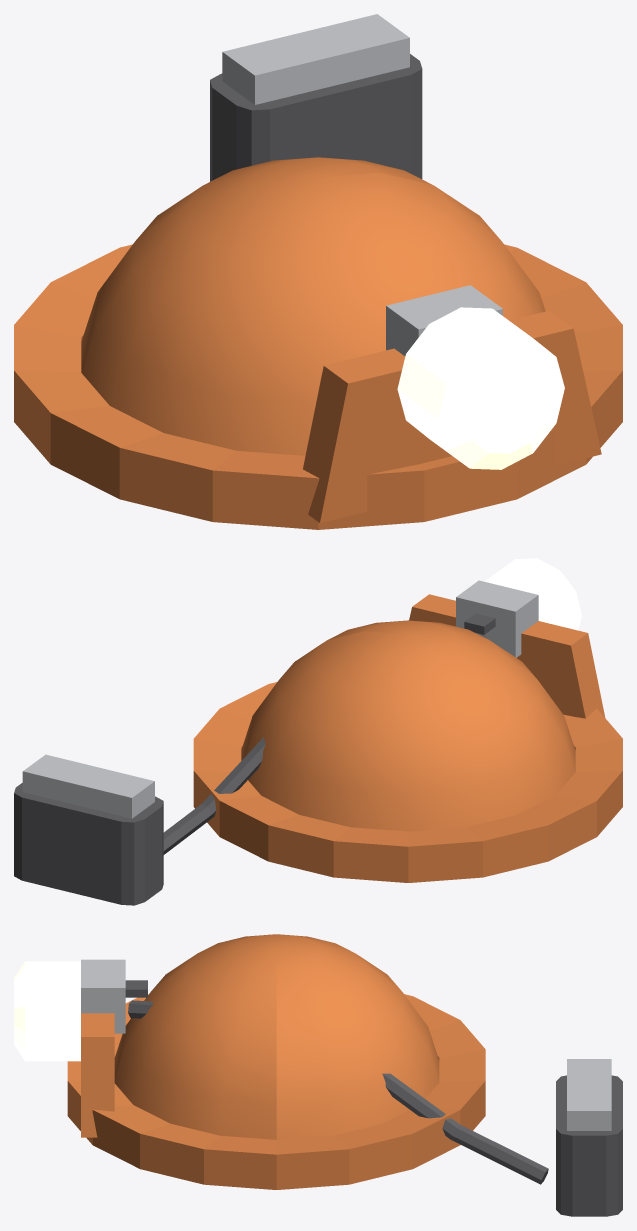
Rendered from acc_hardhat.glb.
The picture shows the model from 3 angles, top to bottom: view 1: azimuth 30°, elevation 25°; view 2: azimuth 150°, elevation 25°; view 3: azimuth 270°, elevation 25°; orthographic projection. The views are drawn at different scales.
Visible parts, largest first — view 1: hard-hat-cap-lamp; view 2: hard-hat-cap-lamp; view 3: hard-hat-cap-lamp.
Boxes of the visible parts, bbox=[...] form: hard-hat-cap-lamp: bbox=[14, 14, 622, 529]; hard-hat-cap-lamp: bbox=[14, 558, 622, 905]; hard-hat-cap-lamp: bbox=[14, 934, 622, 1216].
Size of the model in its own units: 0.415 by 0.1666 by 0.545.
